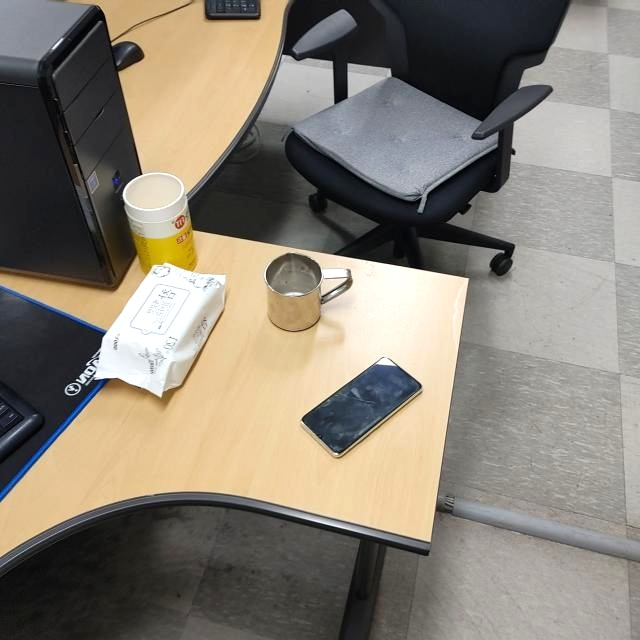cup: (265, 249, 353, 333)
phone: (298, 354, 425, 460)
